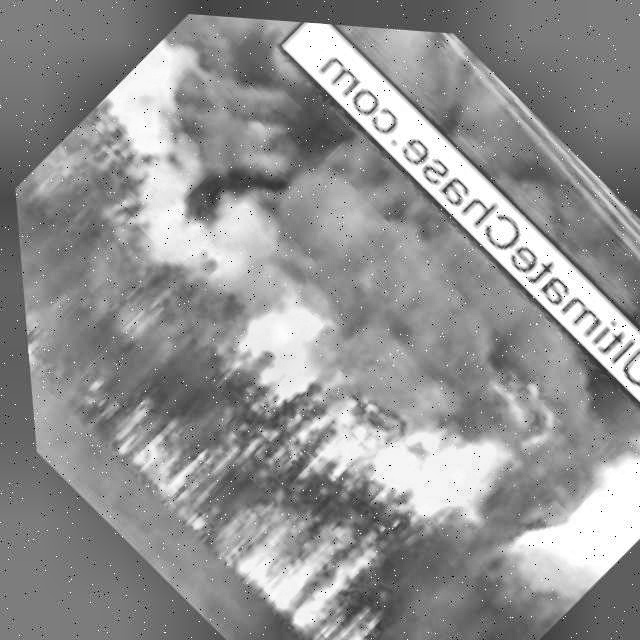Fire: (85, 180, 611, 640), (18, 284, 42, 369)
Smoke: (77, 4, 640, 573), (264, 15, 640, 381)
